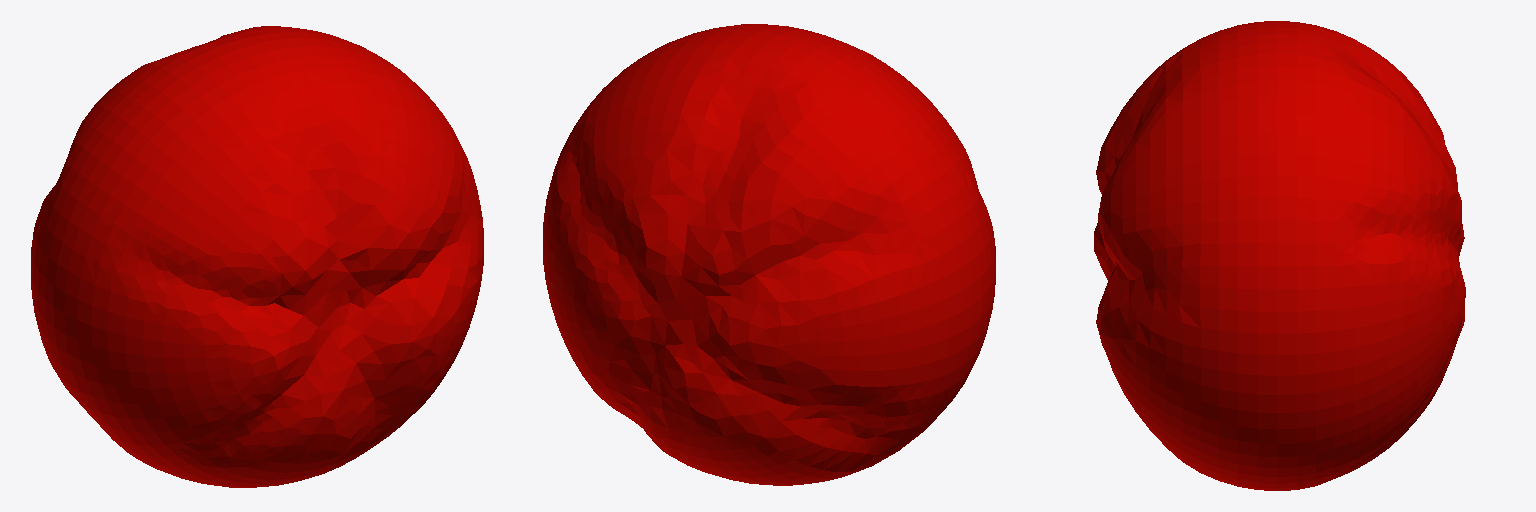
File: tomato.obj
The picture shows the model from 3 angles: view 1: azimuth 30°, elevation 25°; view 2: azimuth 150°, elevation 25°; view 3: azimuth 270°, elevation 25°; orthographic projection.
Parts seen in each view (by area): view 1: Sphere.189; view 2: Sphere.189; view 3: Sphere.189.
Boxes of the visible parts, x1,y1,x2,y2 form: Sphere.189: [31, 26, 483, 487]; Sphere.189: [543, 24, 995, 485]; Sphere.189: [1094, 21, 1465, 490].
Bounding box in the file's own units: 0.109 × 0.109 × 0.0862.